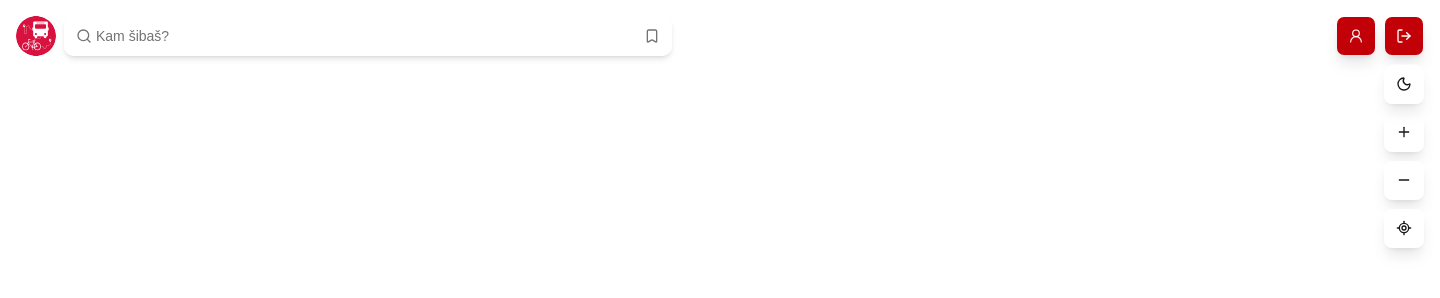
integracijski MainAppControlOverlay › Places network napaka pri izhodiscu prikaze napako lokacije
Focus the field labelled "Kam šibaš?" at (352, 36), box [64,16,640,56]
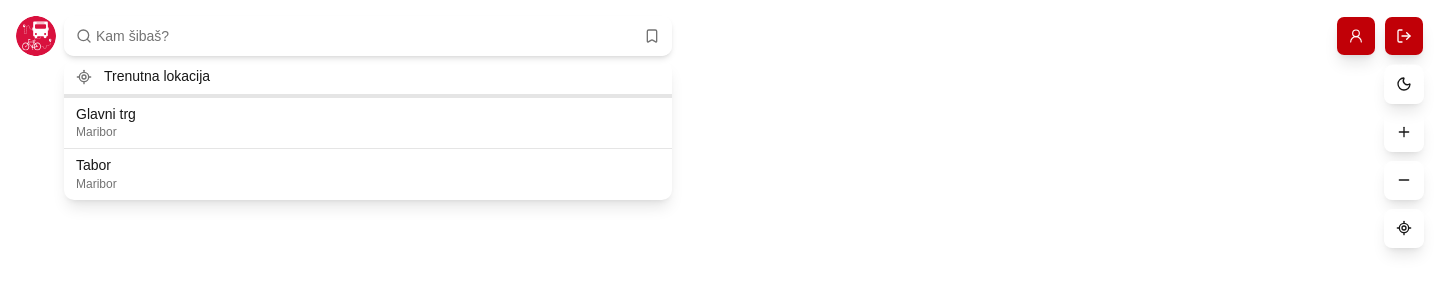
Press the mouse on the text "Tabor" at (94, 165), box [76,157,111,173]
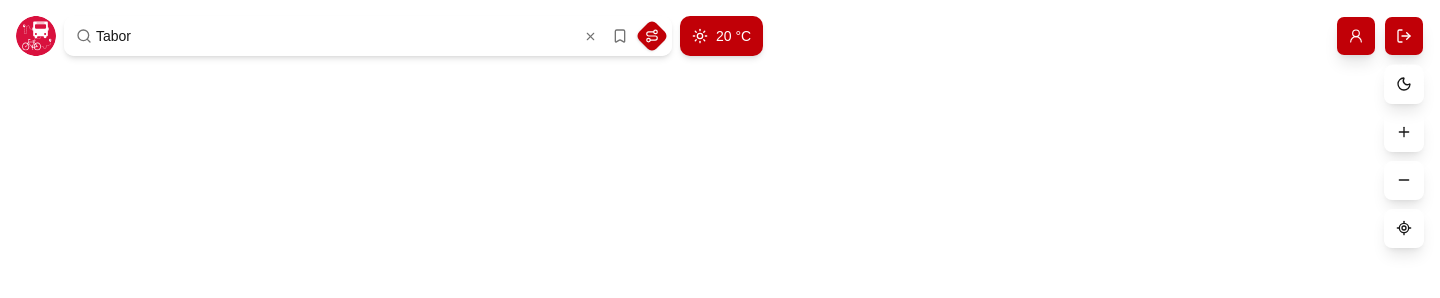
Expected: the button named "Navodila za pot" is shown
Click the button named "Navodila za pot" at (652, 36), box [635,19,669,53]
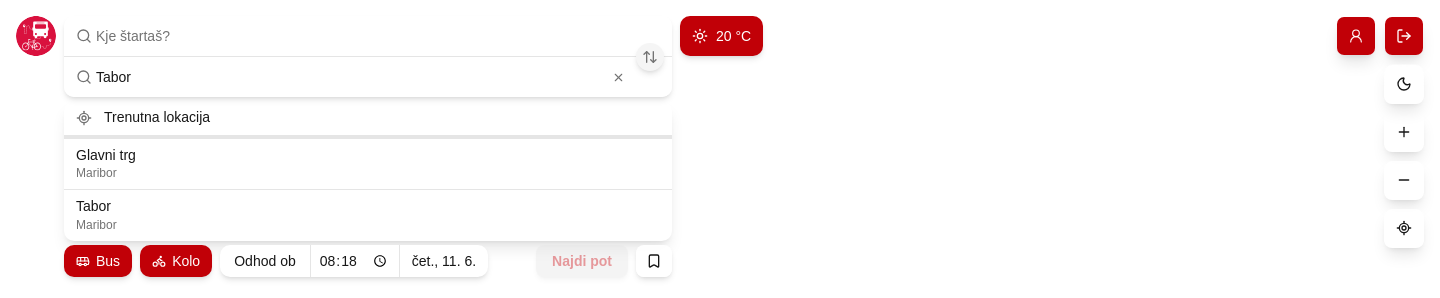
Press the mouse on the text "Glavni trg" at (106, 154), box [76,146,136,162]
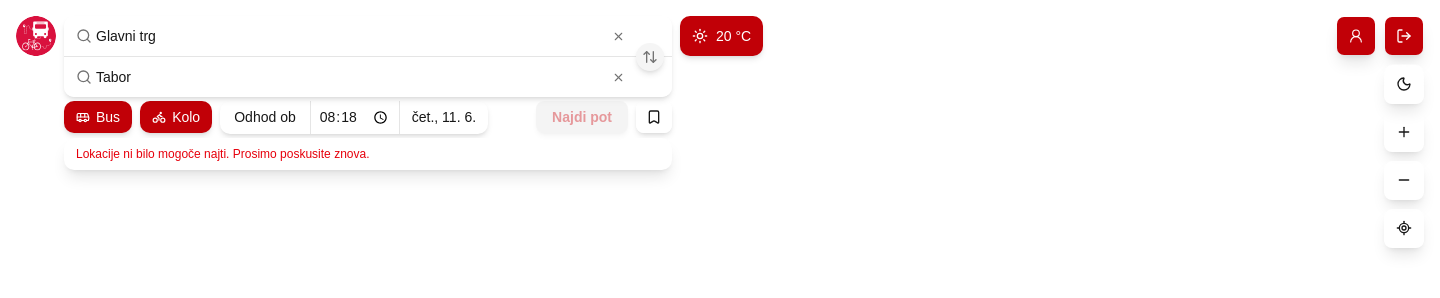
Expected: the text "Lokacije ni bilo mogoče najti. Prosimo poskusite znova." is shown, [64,138,672,170]
